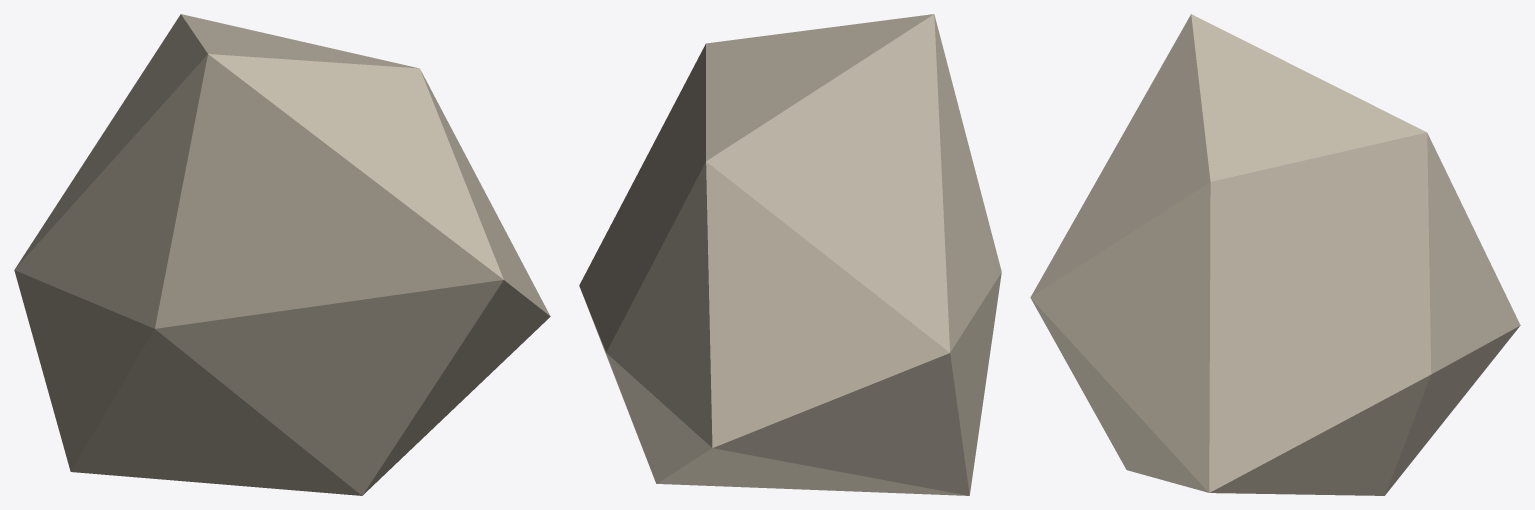
Rendered from Rock 1.fbx.
3 views of the same model, side by side, from view 1: azimuth 30°, elevation 25°; view 2: azimuth 150°, elevation 25°; view 3: azimuth 270°, elevation 25° (orthographic). The views are drawn at different scales.
Visible parts, largest first — view 1: Rock 1; view 2: Rock 1; view 3: Rock 1.
Boxes of the visible parts, left/top/right/bottom form: Rock 1: left=14, top=14, right=550, bottom=495; Rock 1: left=579, top=14, right=1001, bottom=495; Rock 1: left=1030, top=14, right=1520, bottom=495.
Size of the model in its own units: 282 by 262 by 289.
